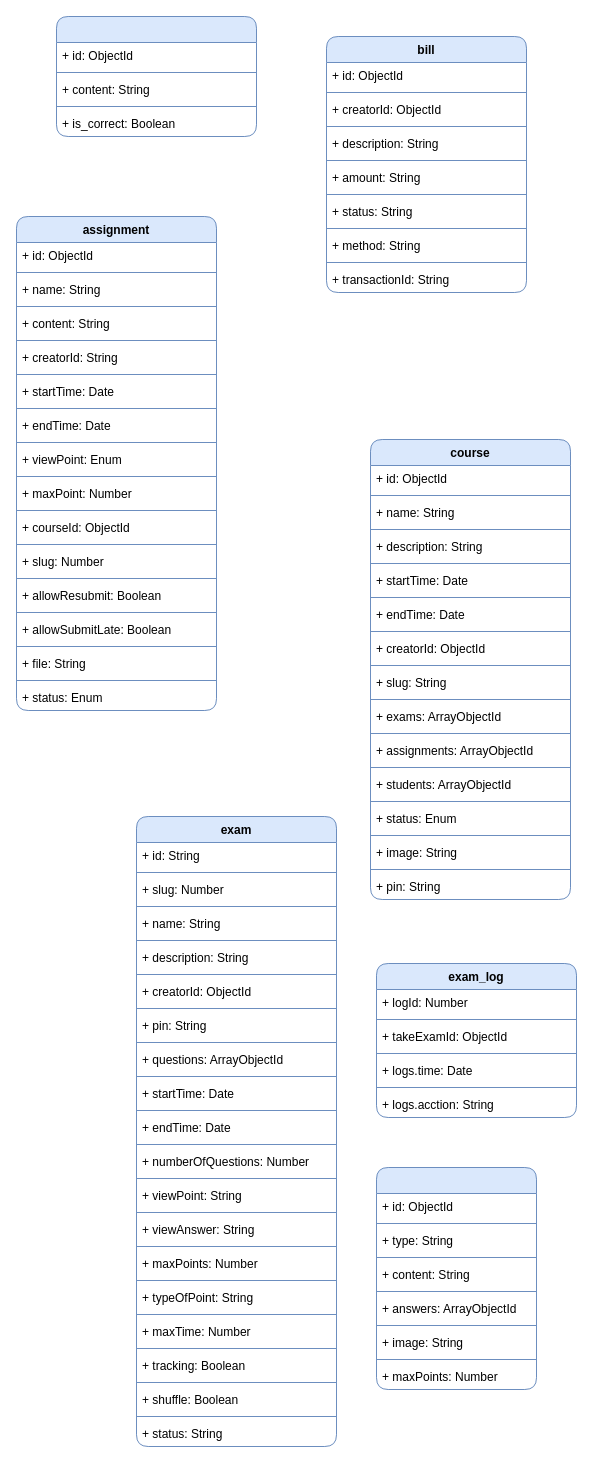
The diagram is 593 pixels wide and 1463 high, and some of its shapes have lost their labels. The shapes that lost their labels are listed below. From the top down, each one's box as (x1, y1, x2, y2) in pixels, then its label:
(56, 16, 256, 136): answer
(376, 1166, 536, 1390): question
